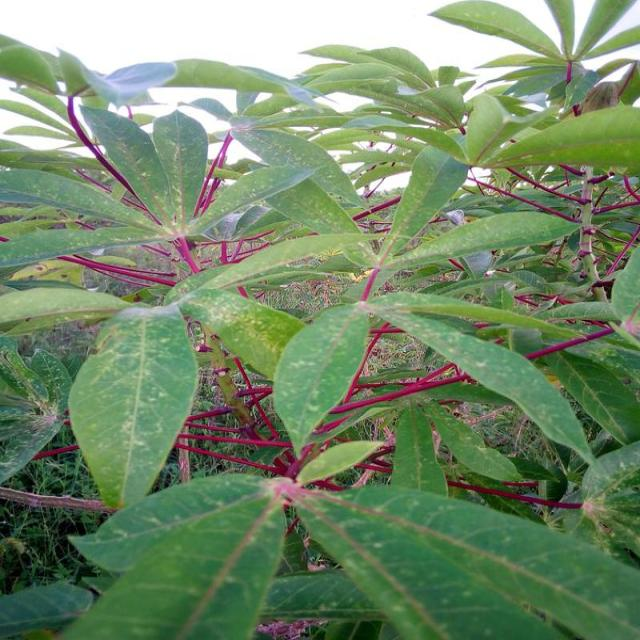cassava leaf: (2, 4, 640, 637), (294, 482, 640, 638), (62, 470, 288, 638), (68, 302, 200, 509), (273, 300, 371, 458)
